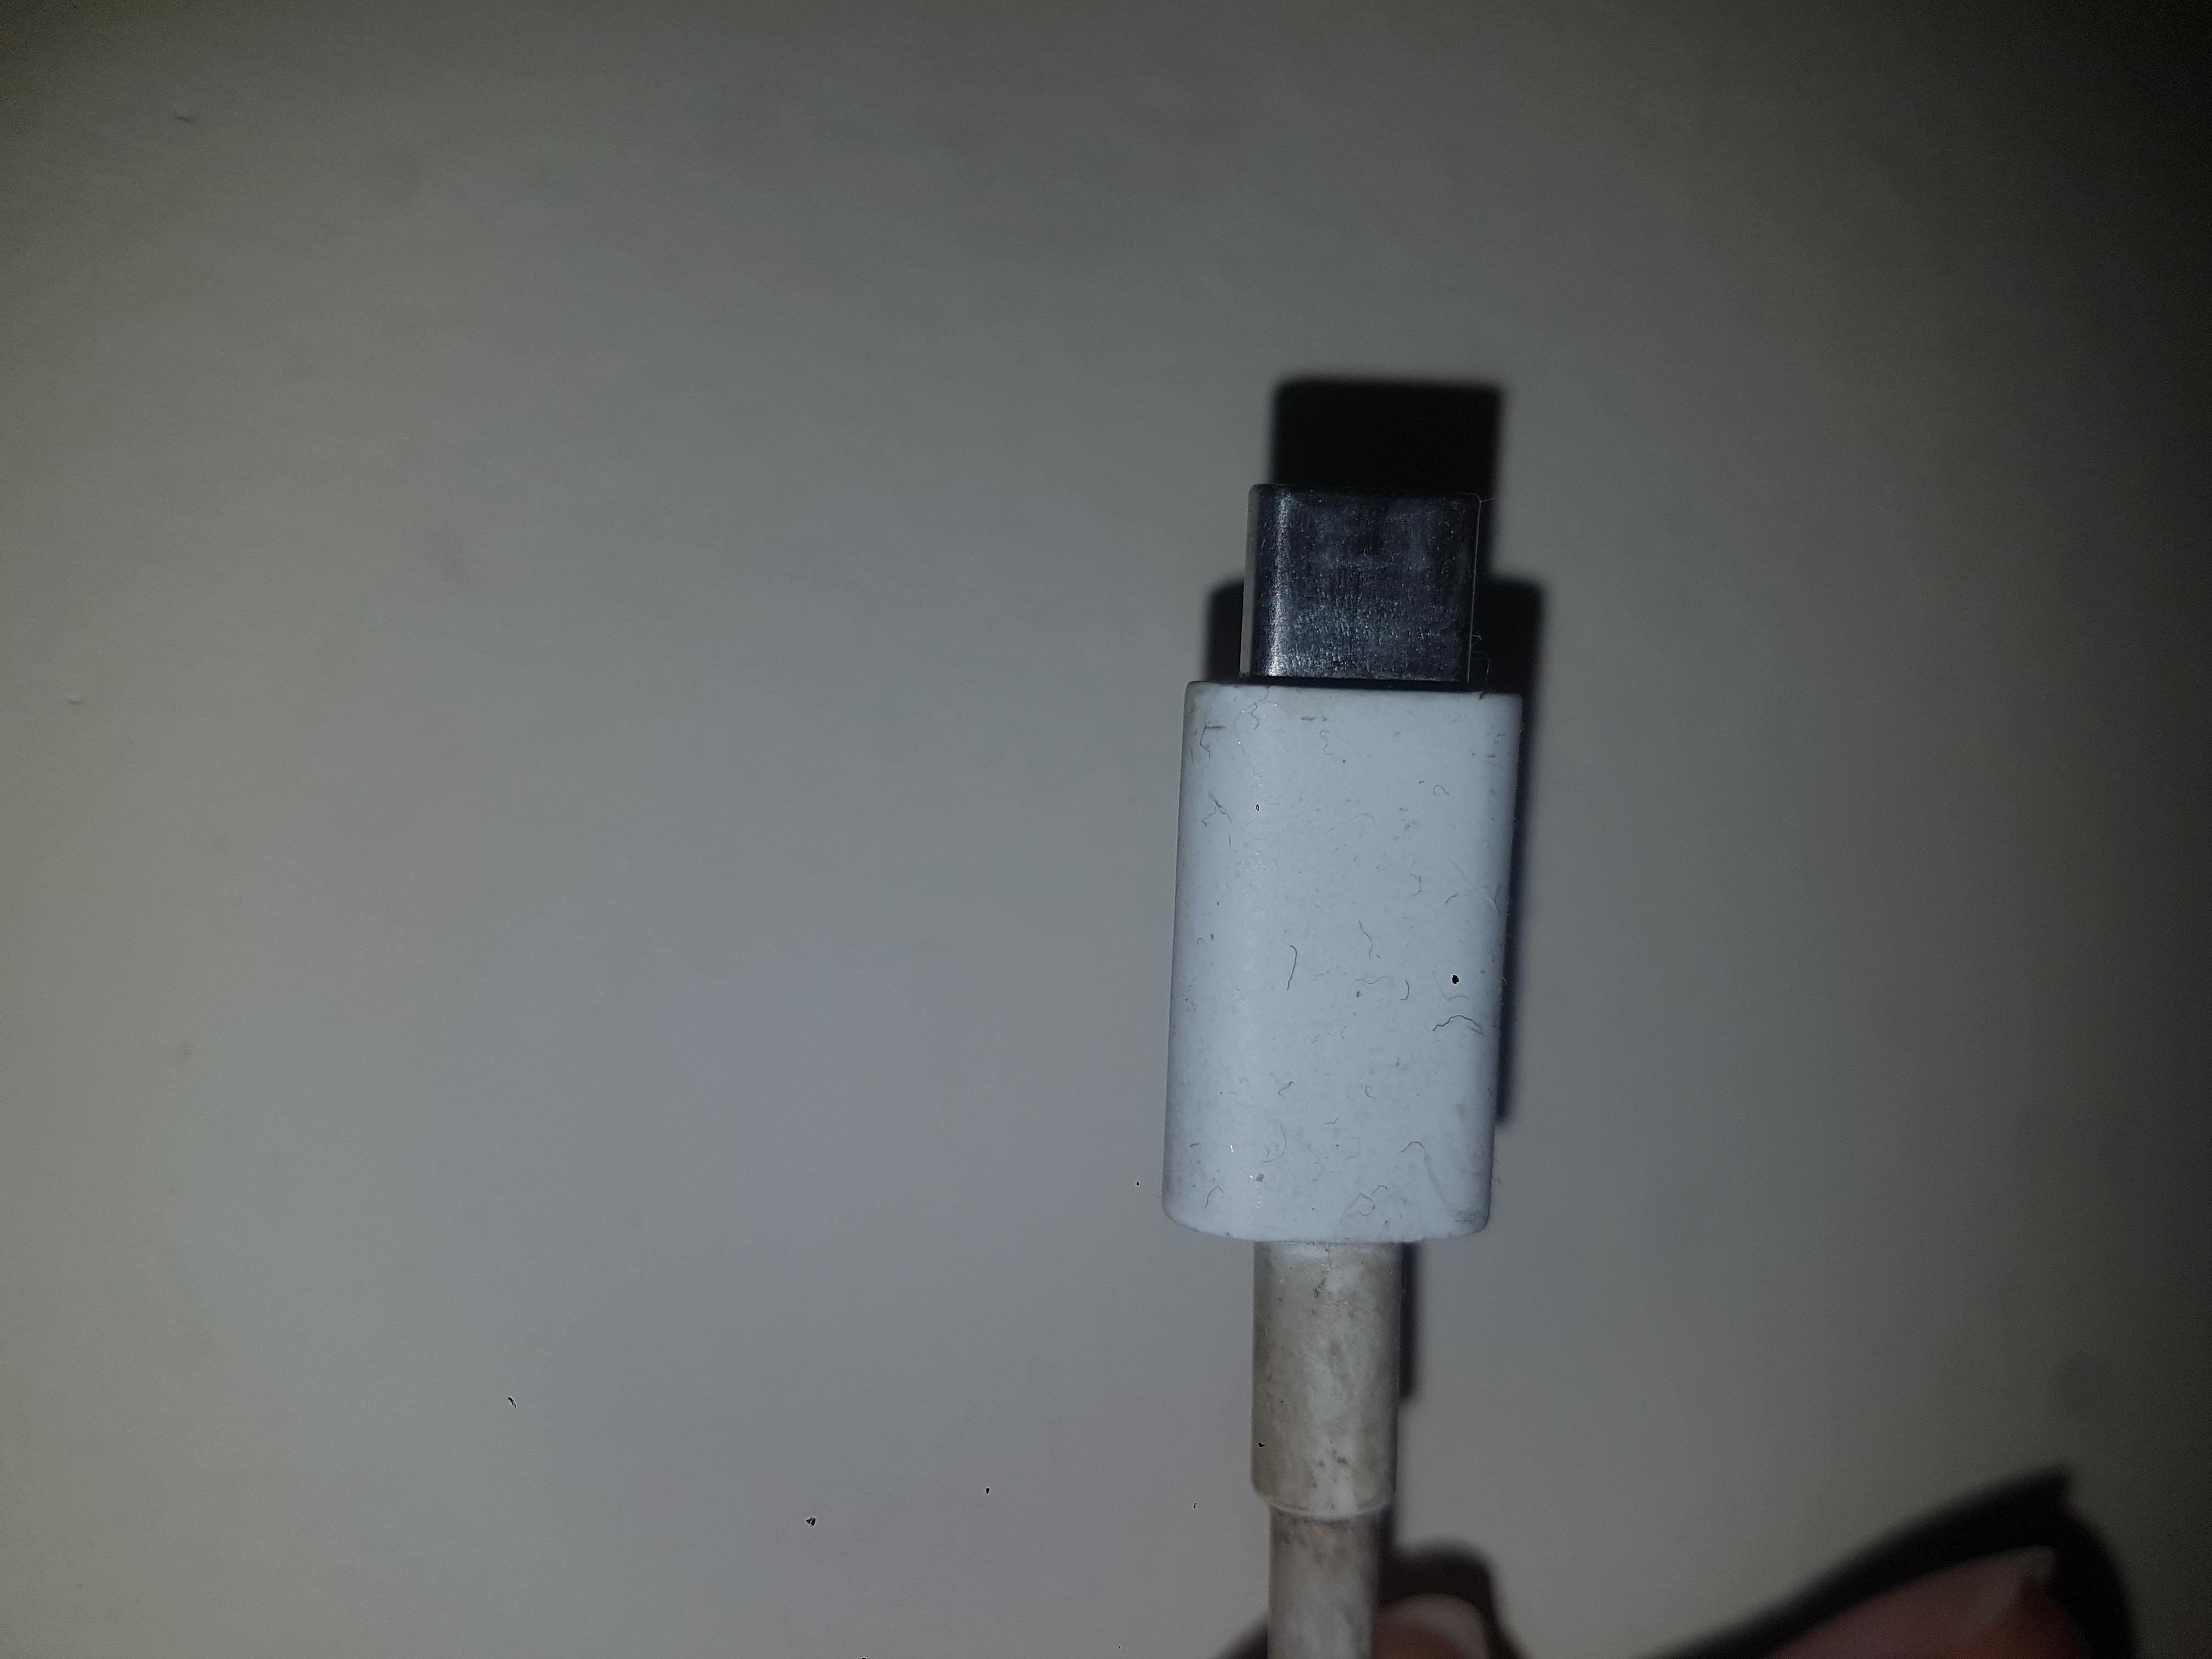electronic: (0, 864, 1623, 1166)
